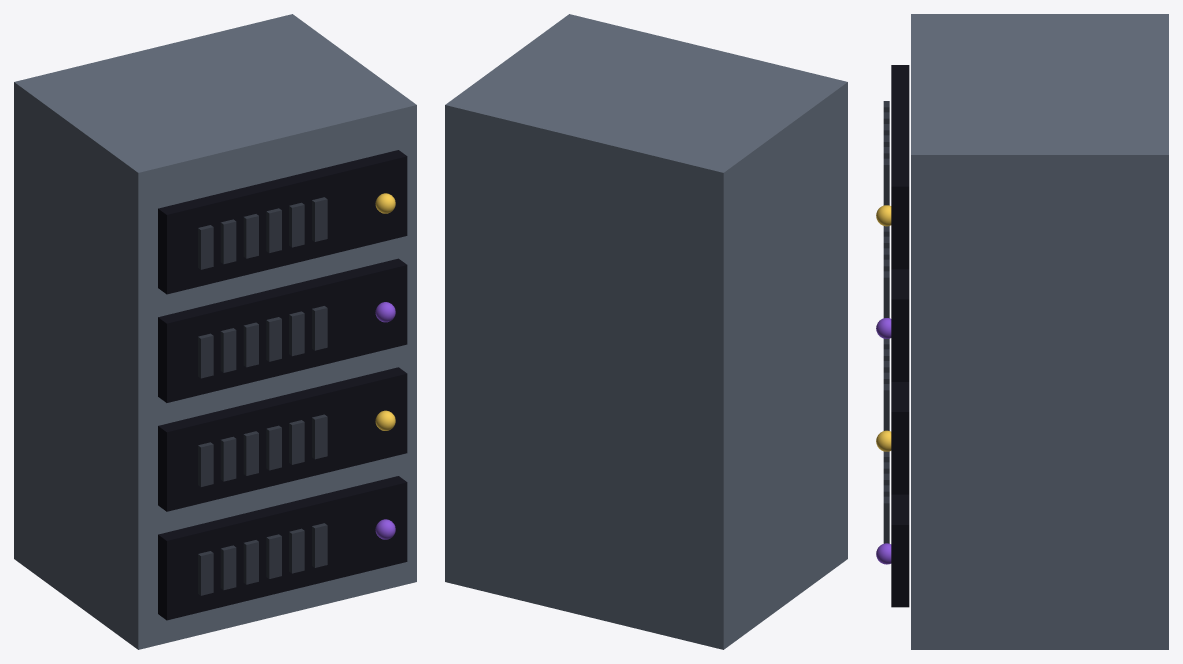
3 renders of one model, left to right at view 1: azimuth 30°, elevation 25°; view 2: azimuth 150°, elevation 25°; view 3: azimuth 270°, elevation 25°, orthographic. The views are drawn at different scales.
Parts seen in each view (by area): view 1: cabinet, blade-0, blade-3, blade-2, blade-1, vent-0-1, vent-3-1, vent-1-1, vent-2-1, vent-0-3, vent-2-0, vent-0-4 (+17 smaller); view 2: cabinet; view 3: cabinet, blade-3, blade-0, blade-1, blade-2.
Part boxes in pixels (left/top/right/bottom): cabinet: left=14, top=14, right=416, bottom=649; blade-0: left=158, top=476, right=407, bottom=620; blade-3: left=158, top=150, right=407, bottom=294; blade-2: left=158, top=258, right=407, bottom=402; blade-1: left=158, top=367, right=407, bottom=511; vent-0-1: left=220, top=545, right=236, bottom=590; vent-3-1: left=220, top=219, right=236, bottom=264; vent-1-1: left=220, top=436, right=236, bottom=481; vent-2-1: left=220, top=328, right=236, bottom=372; vent-0-3: left=266, top=534, right=281, bottom=578; vent-2-0: left=198, top=333, right=213, bottom=378; vent-0-4: left=289, top=528, right=304, bottom=573; cabinet: left=445, top=14, right=847, bottom=649; cabinet: left=911, top=14, right=1168, bottom=649; blade-3: left=891, top=65, right=909, bottom=269; blade-0: left=891, top=494, right=909, bottom=607; blade-1: left=891, top=382, right=909, bottom=494; blade-2: left=891, top=269, right=909, bottom=381.
Size of the model in its own units: 1.1 by 1.8 by 0.965.
